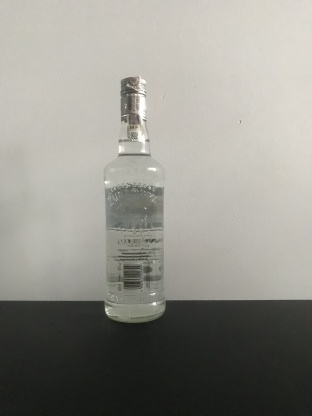nakretka: (118, 72, 148, 123)
